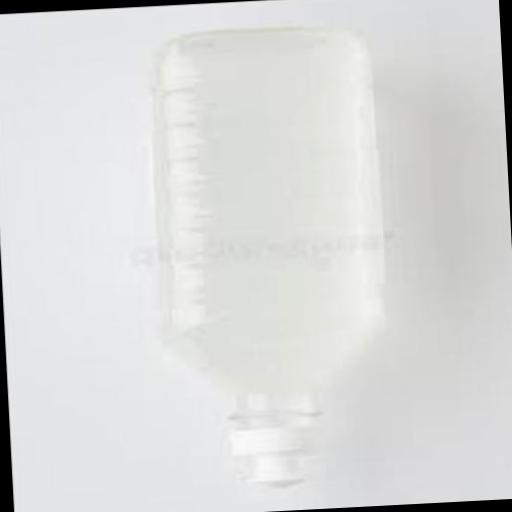plastic: (136, 22, 390, 495), (222, 426, 311, 489)
